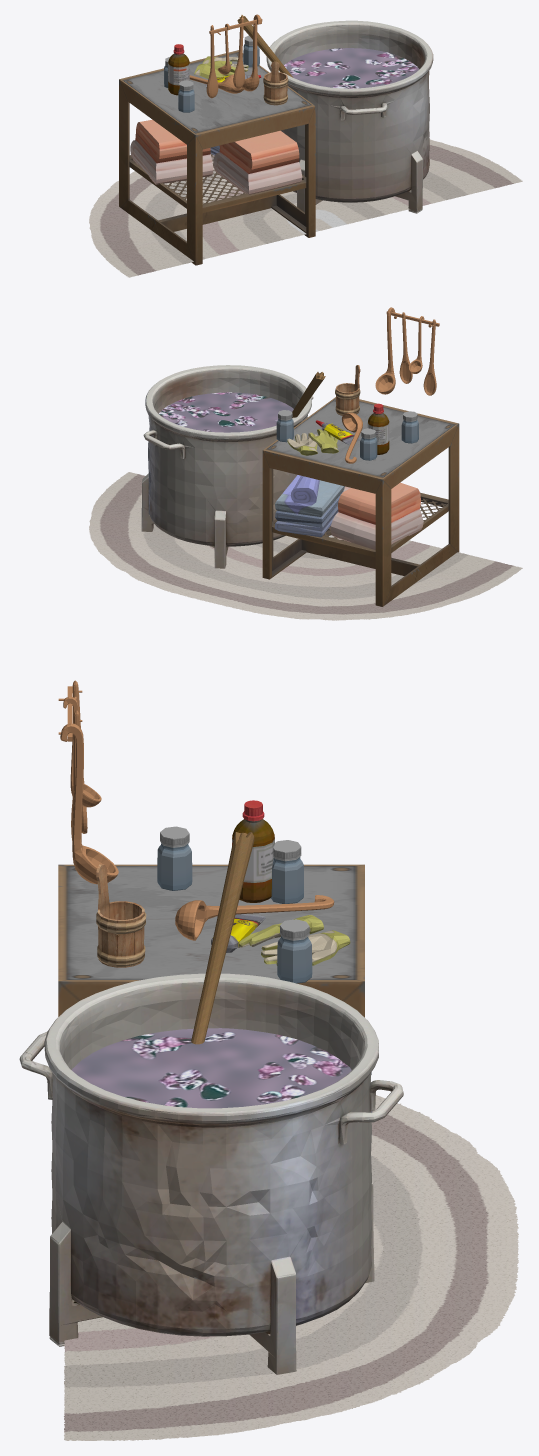
File: P_ToolTable_001_S1_M01_ranliao.obj
3 views of the same model, one above another, from view 1: azimuth 30°, elevation 25°; view 2: azimuth 150°, elevation 25°; view 3: azimuth 270°, elevation 25° (orthographic). The views are drawn at different scales.
Bounding box in the file's own units: 3 × 1.68 × 1.64.
Materials: 28 (28 with a texture image).
